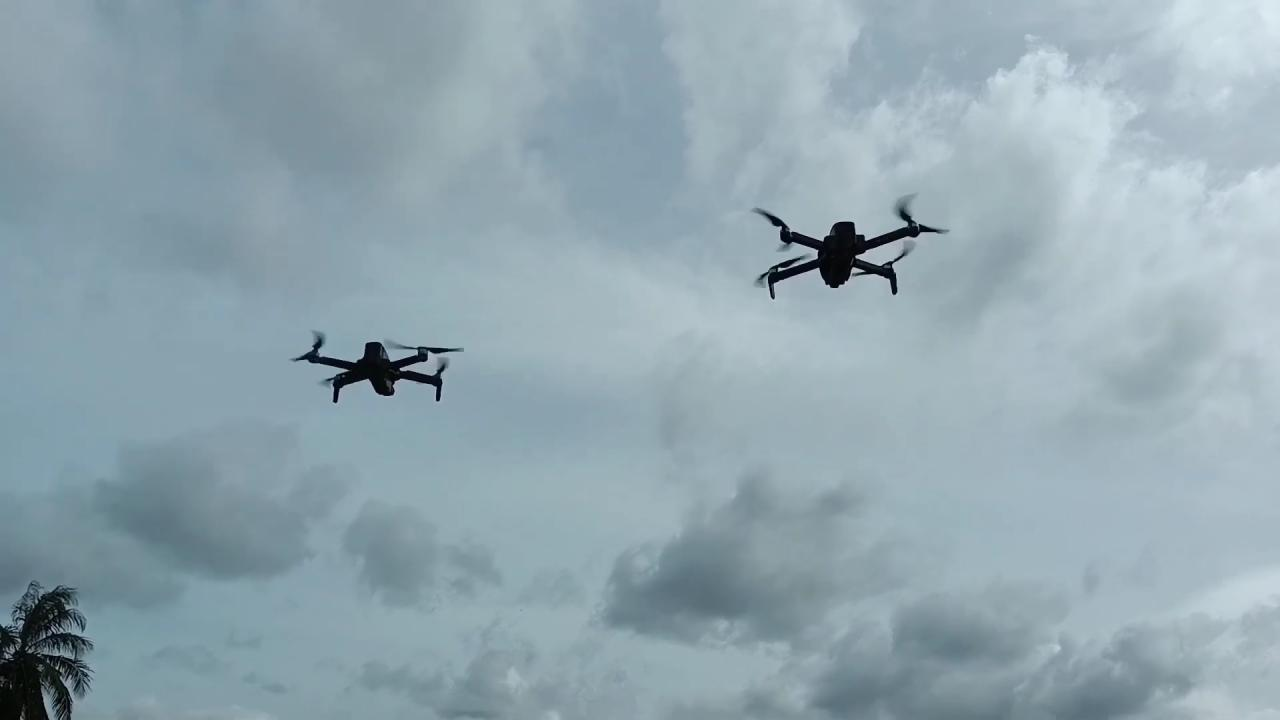Drone: (743, 183, 959, 307), (283, 314, 476, 418)
